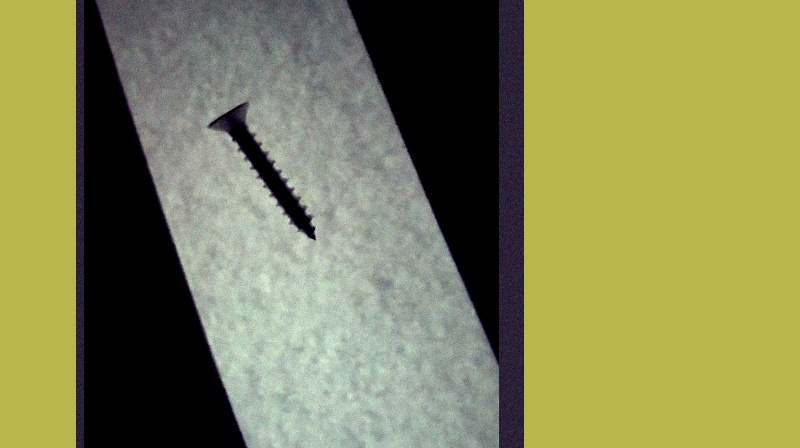S001: (205, 100, 317, 244)
